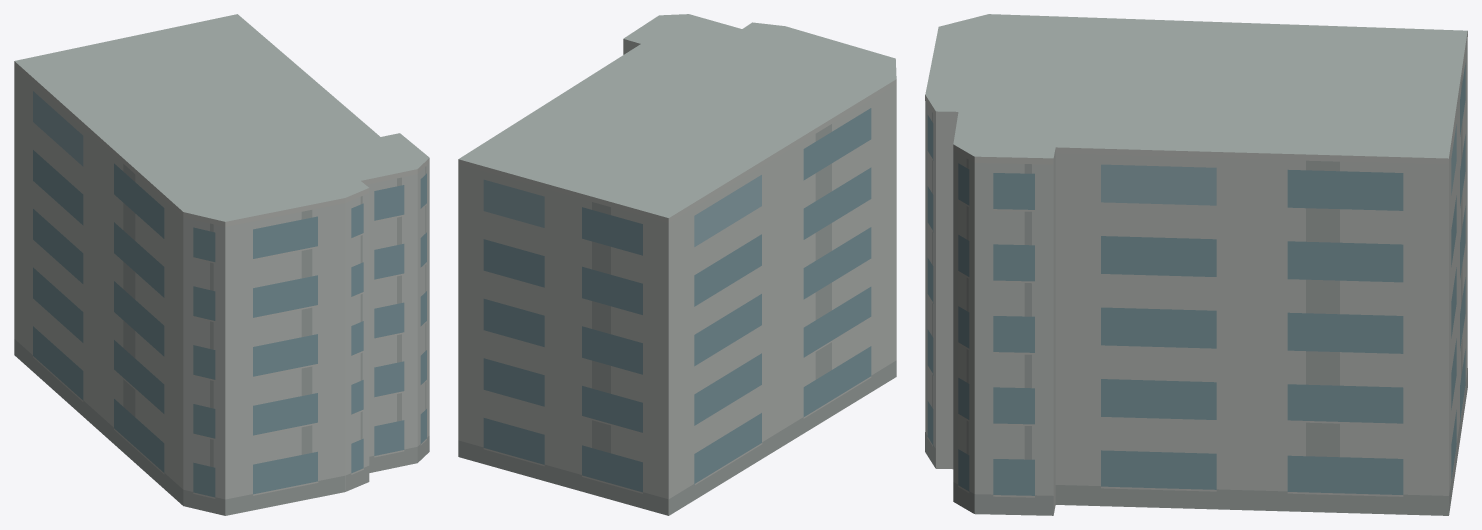
File: survey-upis-32962653.glb
The picture shows the model from 3 angles, left to right: view 1: azimuth 30°, elevation 25°; view 2: azimuth 150°, elevation 25°; view 3: azimuth 270°, elevation 25°; orthographic projection. The views are drawn at different scales.
Visible parts, largest first — view 1: survey-upis-32962653.tmp; view 2: survey-upis-32962653.tmp; view 3: survey-upis-32962653.tmp.
Boxes of the visible parts, x1=… form: survey-upis-32962653.tmp: x1=14, y1=14, x2=429, y2=515; survey-upis-32962653.tmp: x1=458, y1=14, x2=896, y2=515; survey-upis-32962653.tmp: x1=925, y1=14, x2=1467, y2=515.
Bounding box in the file's own units: 12.06 × 13.9 × 19.13.
